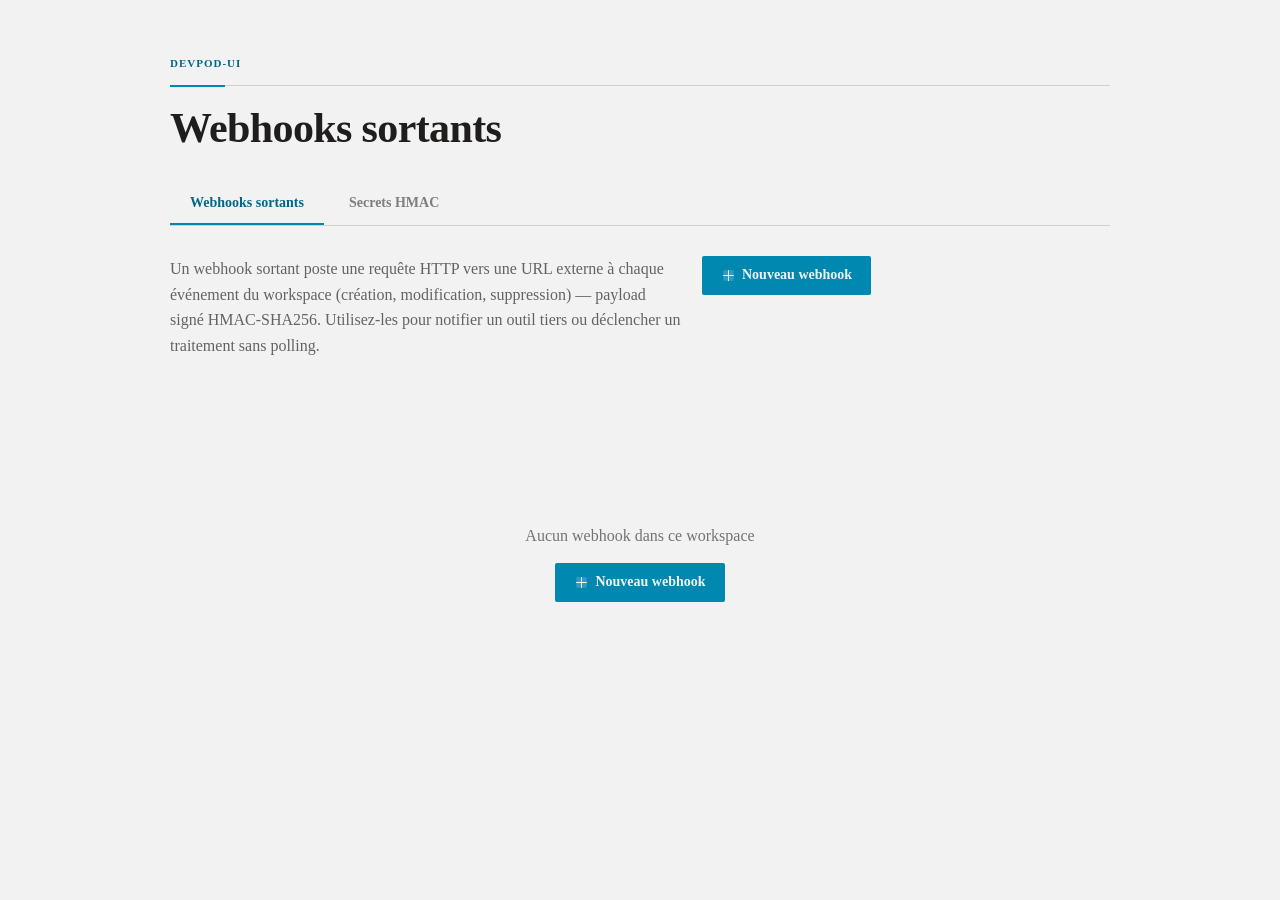
Test: WebhooksAdmin › allows adding and removing header rows
This screenshot has width=1280, height=900.
Click the button with test id "create-webhook-btn" at {"x": 787, "y": 276}, box [702,256,871,295]
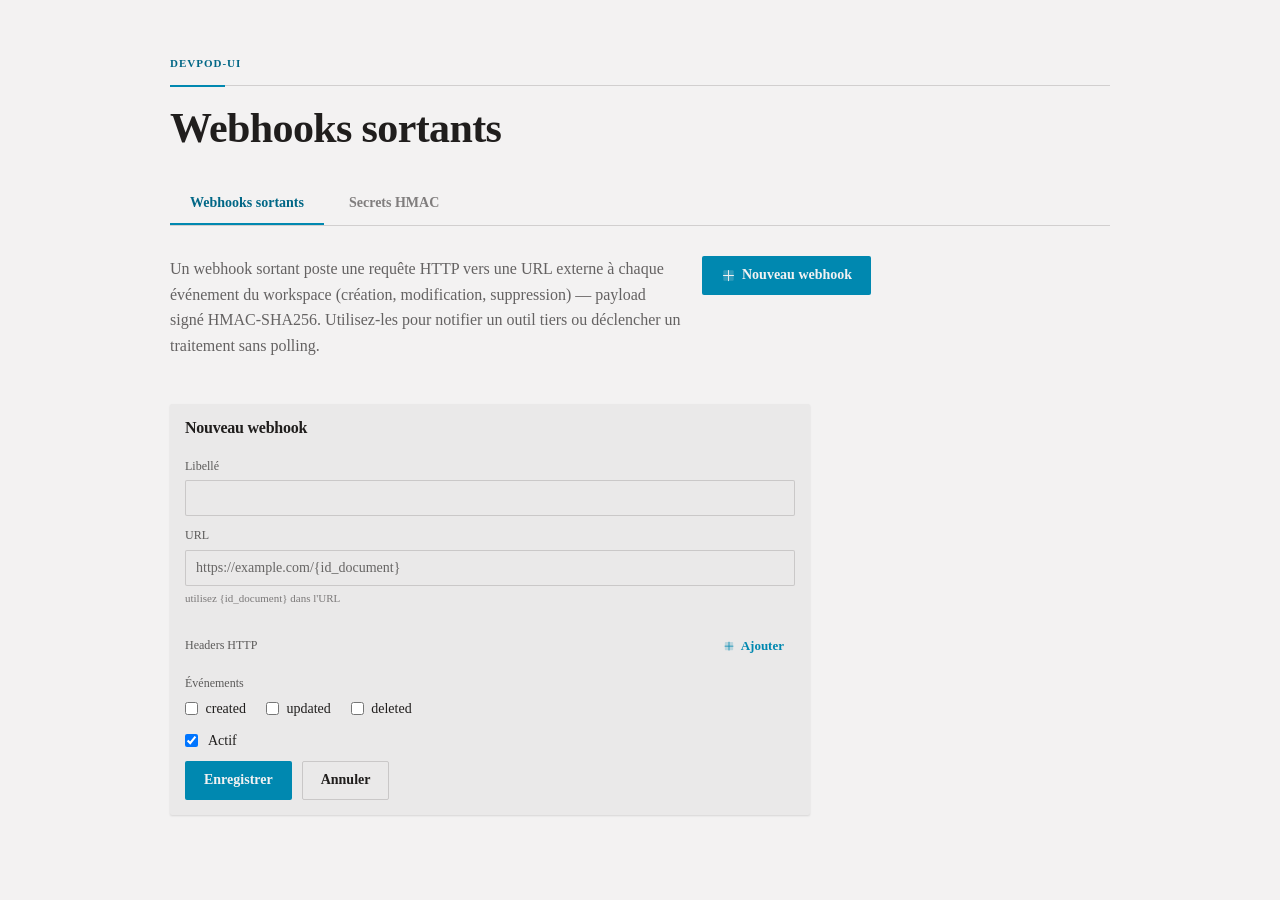
Click the button with test id "add-header-btn" at {"x": 753, "y": 646}, box [712,632,795,659]
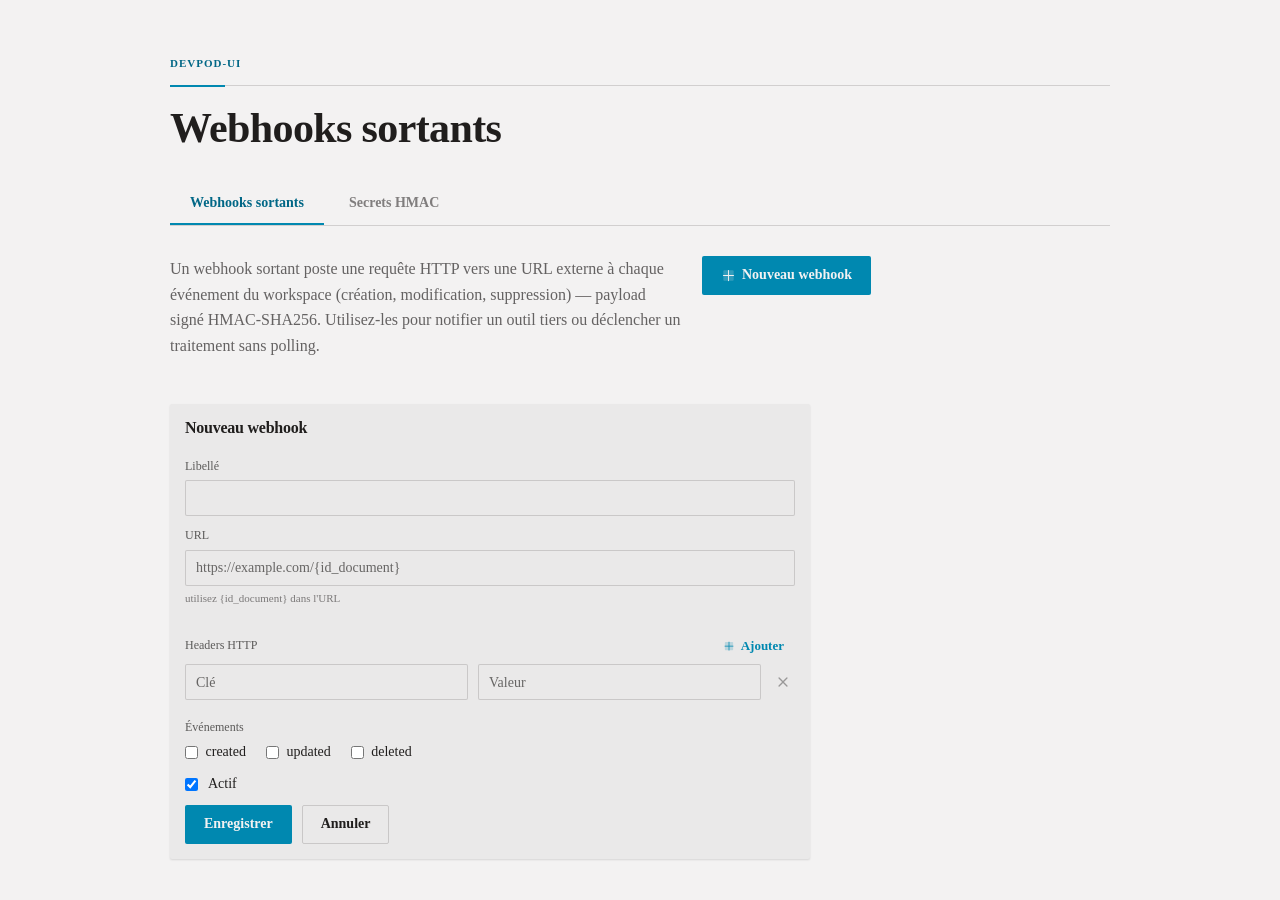
Expected: the element with test id "header-row-0" is shown, [185,664,795,700]
Type "X-Token" into the field with test id "header-key-0" at {"x": 326, "y": 682}, box [185,664,468,700]
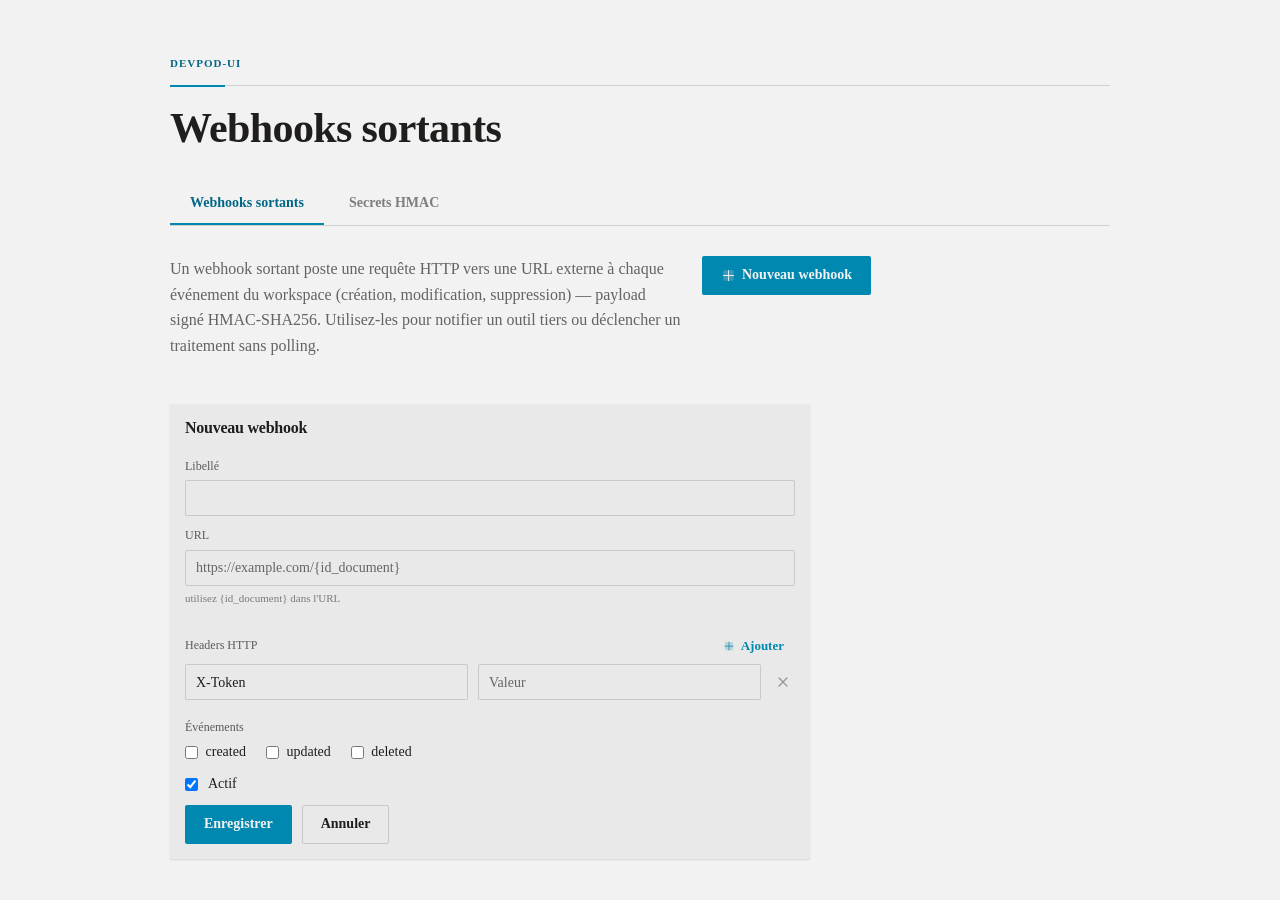
Type "secret" into the field with test id "header-value-0" at {"x": 620, "y": 682}, box [478,664,761,700]
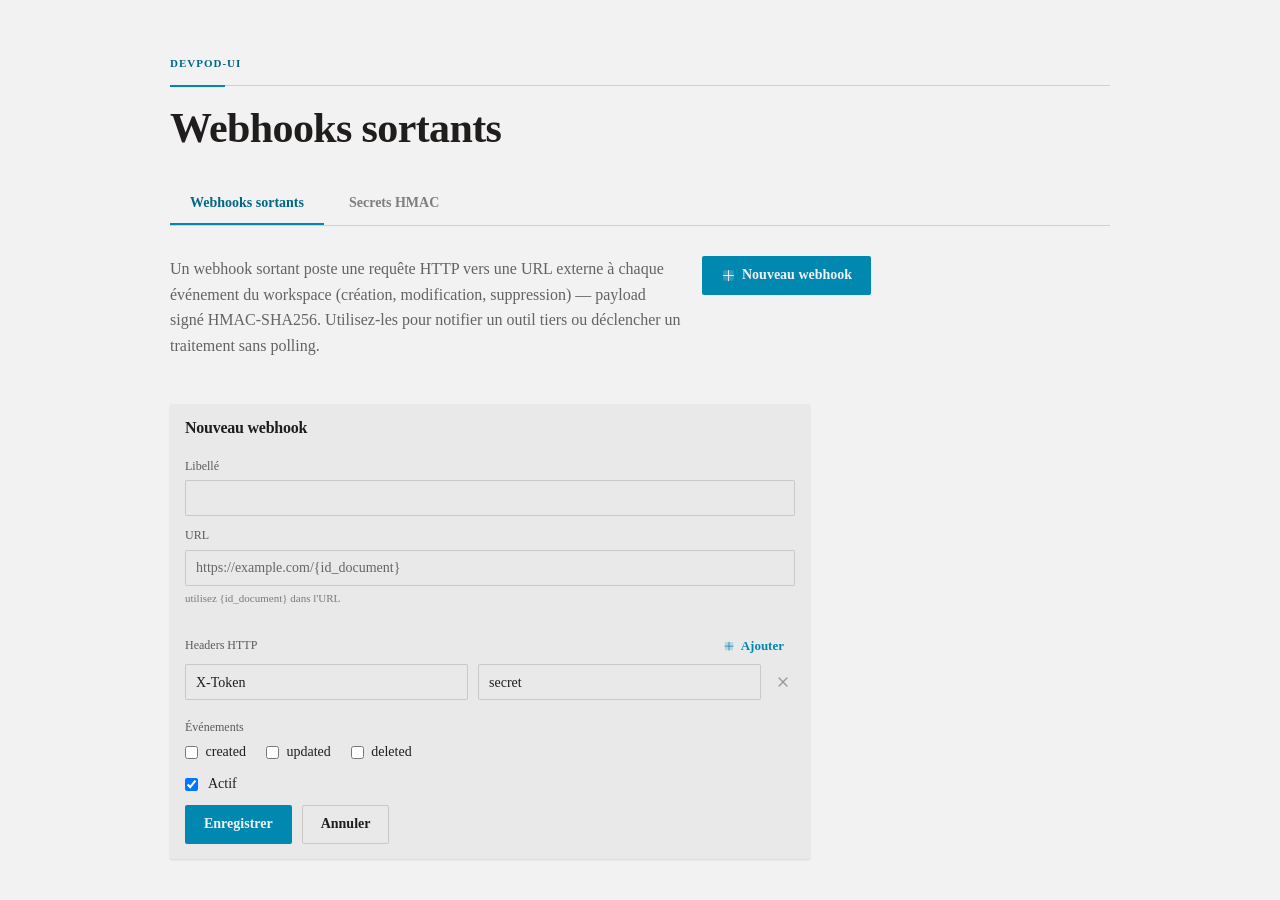
Click the button with test id "remove-header-0" at {"x": 783, "y": 682}, box [771,670,795,694]
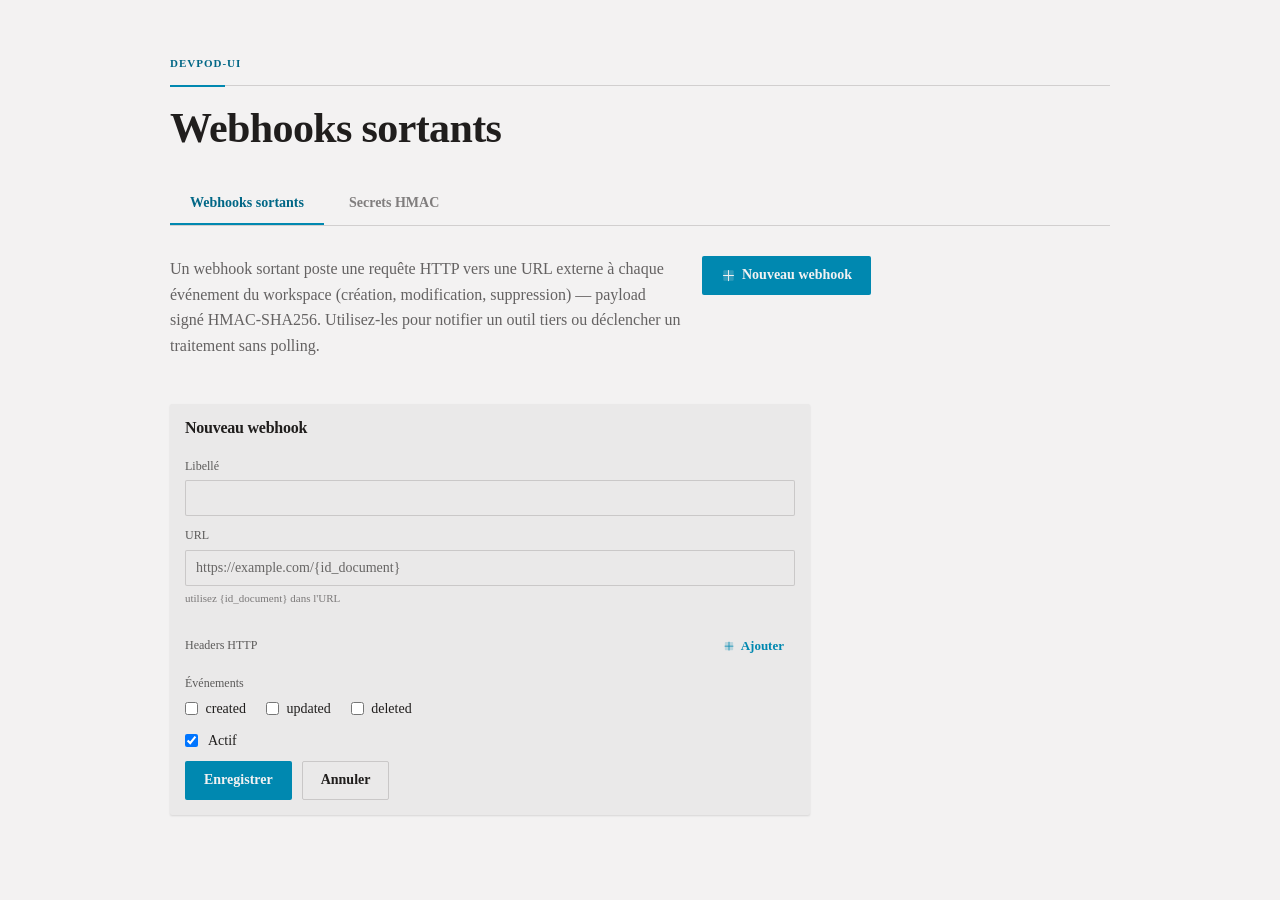
Expected: the element with test id "header-row-0" is gone
